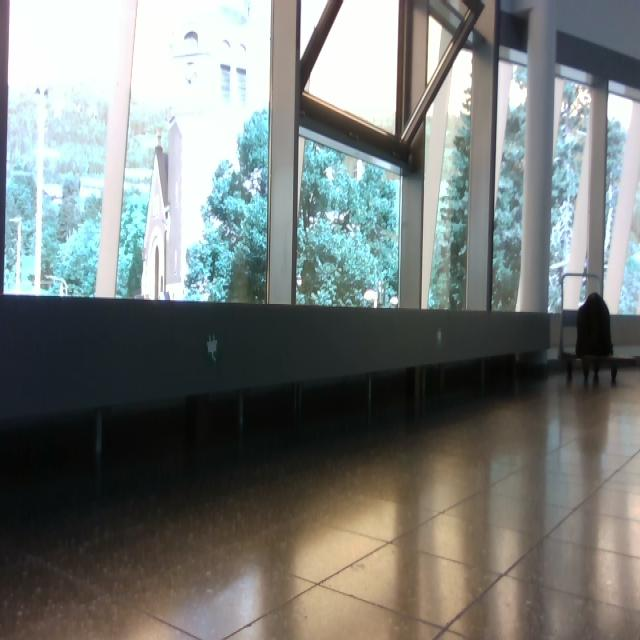light bulb: (508, 79, 528, 111), (355, 158, 365, 181), (207, 335, 218, 355), (325, 166, 335, 181)
pillar: (94, 1, 139, 298), (515, 1, 557, 313)
staircase: (558, 272, 640, 386)
tiled floor: (2, 364, 640, 638)
window: (1, 1, 640, 317)
